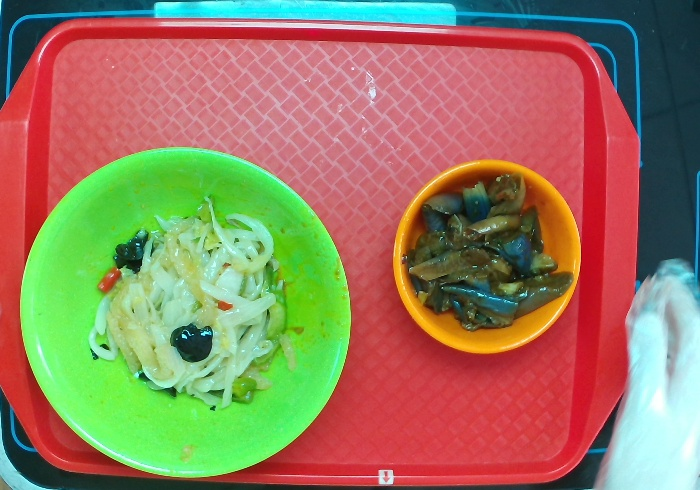YKMZ-Ju_Se_Yuan_Wan: (390, 156, 583, 356)
YKMZ-Lv_Se_Tang_Wan: (17, 144, 355, 481)
